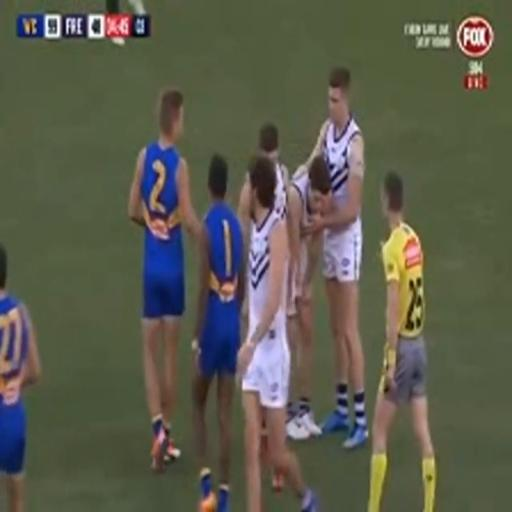nao-violencia: (263, 55, 371, 342)
